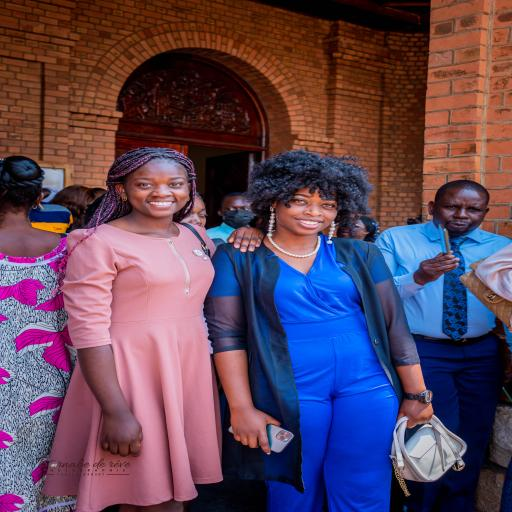LAURENE: (112, 151, 212, 231)
